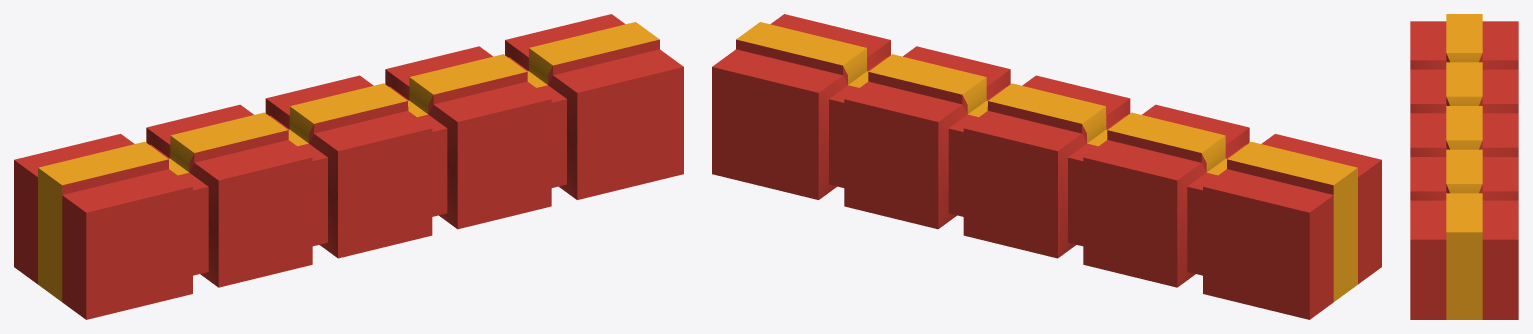
File: Barricade_Plastic_01.fbx
3 views of the same model, side by side, from view 1: azimuth 30°, elevation 25°; view 2: azimuth 150°, elevation 25°; view 3: azimuth 270°, elevation 25° (orthographic). The views are drawn at different scales.
Parts seen in each view (by area): view 1: Obstacle_Barricade_Plastic_01; view 2: Obstacle_Barricade_Plastic_01; view 3: Obstacle_Barricade_Plastic_01.
Part boxes in pixels (x1,y1,x2,y2): Obstacle_Barricade_Plastic_01: (14,14,683,319); Obstacle_Barricade_Plastic_01: (712,14,1381,319); Obstacle_Barricade_Plastic_01: (1410,14,1518,319).
Size of the model in its own units: 164 by 30.69 by 34.38.
1 material, 1 textured.
